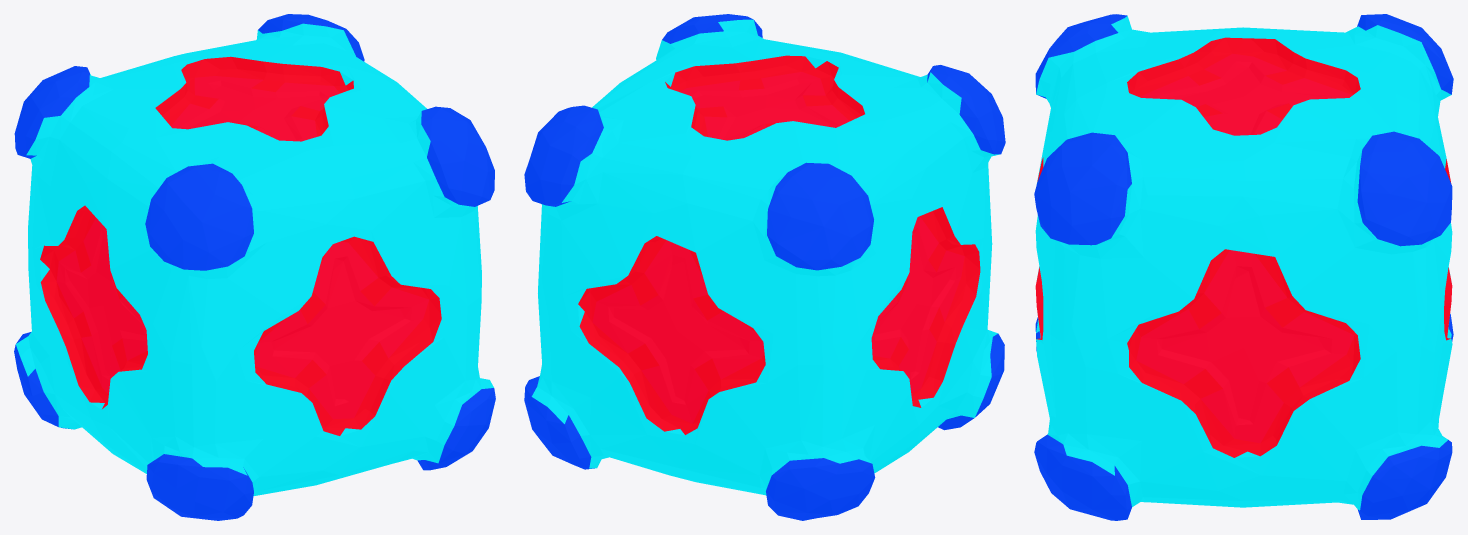
The model's file is extra_life.glb.
The picture shows the model from 3 angles, left to right: view 1: azimuth 30°, elevation 25°; view 2: azimuth 150°, elevation 25°; view 3: azimuth 270°, elevation 25°; orthographic projection. The views are drawn at different scales.
Parts seen in each view (by area): view 1: extra_life_BAKED; view 2: extra_life_BAKED; view 3: extra_life_BAKED.
Boxes of the visible parts, x1=… form: extra_life_BAKED: x1=14, y1=14, x2=495, y2=520; extra_life_BAKED: x1=524, y1=14, x2=1005, y2=520; extra_life_BAKED: x1=1034, y1=14, x2=1453, y2=520.
Size of the model in its own units: 1.9 by 1.9 by 1.9.
